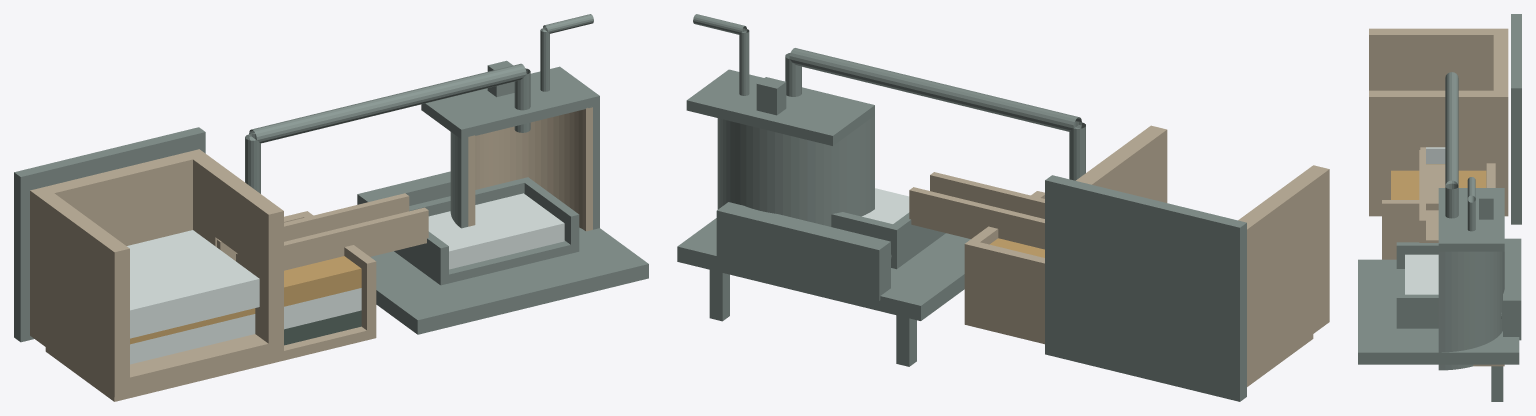
Rendered from ending.glb.
The picture shows the model from 3 angles, left to right: view 1: azimuth 30°, elevation 25°; view 2: azimuth 150°, elevation 25°; view 3: azimuth 270°, elevation 25°; orthographic projection. The views are drawn at different scales.
Parts seen in each view (by area): view 1: CAST_holding_furnace_left, CAST_support_frame, CAST_furnace_metal, TAP_crucible_lining, CAST_holding_furnace_back, CAST_furnace_port_lintel, CAST_furnace_cladding, CAST_solid_ingot, CAST_holding_furnace_base, TAP_crucible_lid, TAP_tube_01, CAST_launder_wall_1 (+17 smaller); view 2: CAST_furnace_cladding, TAP_crucible_shell, CAST_holding_furnace_left, CAST_cooling_duct, CAST_support_frame, TAP_crucible_lid, TAP_cell_section_back, TAP_tube_01, CAST_launder_wall_-1, CAST_furnace_port_lintel, CAST_launder_wall_1, CAST_holding_furnace_base (+11 smaller); view 3: CAST_holding_furnace_left, CAST_furnace_port_lintel, CAST_support_frame, TAP_crucible_shell, TAP_crucible_lid, CAST_furnace_cladding, TAP_cell_section_right, CAST_cooling_duct, TAP_tube_01, CAST_mould_right, CAST_solid_ingot, TAP_electrolyte (+15 smaller).
Boxes of the visible parts, bbox=[...] form: CAST_holding_furnace_left: bbox=[30, 186, 129, 396]; CAST_support_frame: bbox=[370, 227, 648, 334]; CAST_furnace_metal: bbox=[127, 230, 259, 338]; TAP_crucible_lining: bbox=[468, 107, 592, 231]; CAST_holding_furnace_back: bbox=[46, 153, 192, 245]; CAST_furnace_port_lintel: bbox=[184, 149, 283, 275]; CAST_furnace_cladding: bbox=[14, 127, 205, 342]; CAST_solid_ingot: bbox=[428, 193, 564, 269]; CAST_holding_furnace_base: bbox=[30, 320, 283, 397]; TAP_crucible_lid: bbox=[421, 66, 599, 139]; TAP_tube_01: bbox=[249, 63, 526, 143]; CAST_launder_wall_1: bbox=[236, 207, 428, 270]; CAST_furnace_cladding: bbox=[1045, 175, 1246, 401]; TAP_crucible_shell: bbox=[717, 115, 874, 226]; CAST_holding_furnace_left: bbox=[1238, 165, 1329, 380]; CAST_cooling_duct: bbox=[716, 202, 890, 300]; CAST_support_frame: bbox=[677, 218, 970, 320]; TAP_crucible_lid: bbox=[686, 69, 874, 145]; TAP_cell_section_back: bbox=[974, 242, 1044, 344]; TAP_tube_01: bbox=[789, 48, 1081, 131]; CAST_launder_wall_-1: bbox=[909, 187, 1044, 249]; CAST_furnace_port_lintel: bbox=[1076, 125, 1167, 200]; CAST_launder_wall_1: bbox=[930, 172, 1044, 218]; CAST_holding_furnace_base: bbox=[1247, 305, 1329, 382]; CAST_holding_furnace_left: bbox=[1369, 28, 1508, 90]; CAST_furnace_port_lintel: bbox=[1369, 90, 1508, 147]; CAST_support_frame: bbox=[1358, 259, 1519, 364]; TAP_crucible_shell: bbox=[1438, 251, 1504, 370]; TAP_crucible_lid: bbox=[1438, 188, 1504, 251]; CAST_furnace_cladding: bbox=[1511, 14, 1521, 224]; TAP_cell_section_right: bbox=[1382, 200, 1438, 258]; CAST_cooling_duct: bbox=[1503, 238, 1521, 340]; TAP_tube_01: bbox=[1445, 72, 1458, 185]; CAST_mould_right: bbox=[1396, 294, 1438, 328]; CAST_solid_ingot: bbox=[1405, 254, 1438, 294]; TAP_electrolyte: bbox=[1391, 164, 1486, 199].
Bounding box in the file's own units: 7.1 × 3.31 × 2.24.
